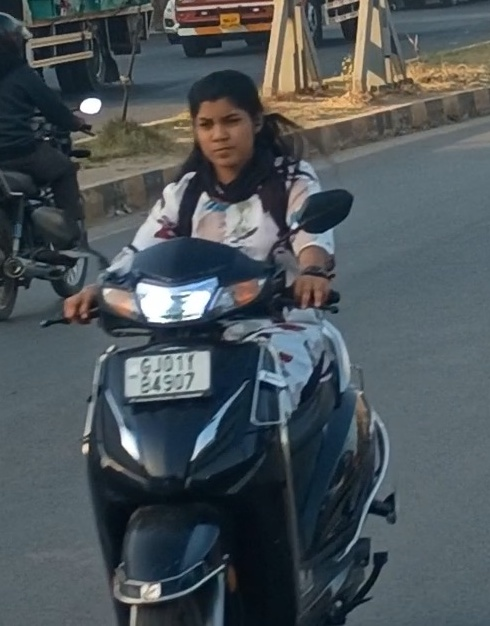BikeWithRider: (38, 65, 401, 626), (0, 7, 103, 325)
Helmet: (0, 12, 37, 68)
NoHelmet: (187, 67, 274, 168)
